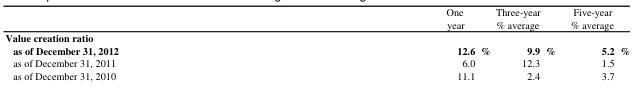table: (4, 4, 629, 81)
table column: (4, 4, 281, 81), (281, 4, 492, 81), (492, 4, 562, 81), (562, 4, 629, 81)
table column header: (4, 4, 629, 30)
table projected row header: (4, 30, 629, 43)
table row: (4, 4, 629, 30), (4, 30, 629, 43), (4, 43, 629, 56), (4, 68, 629, 81), (4, 56, 629, 68)
